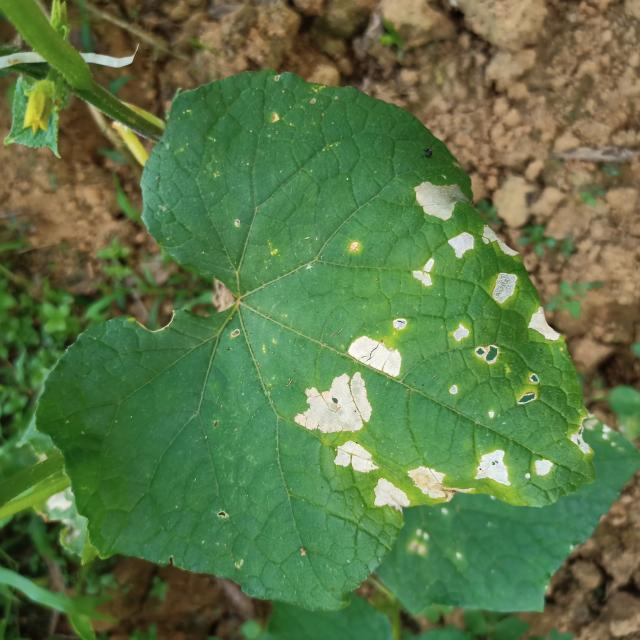disease_cucumber: (295, 336, 403, 433), (407, 179, 477, 295), (373, 466, 447, 511), (482, 225, 518, 308), (478, 450, 553, 486), (450, 324, 499, 370), (335, 441, 380, 475), (529, 305, 560, 347)
